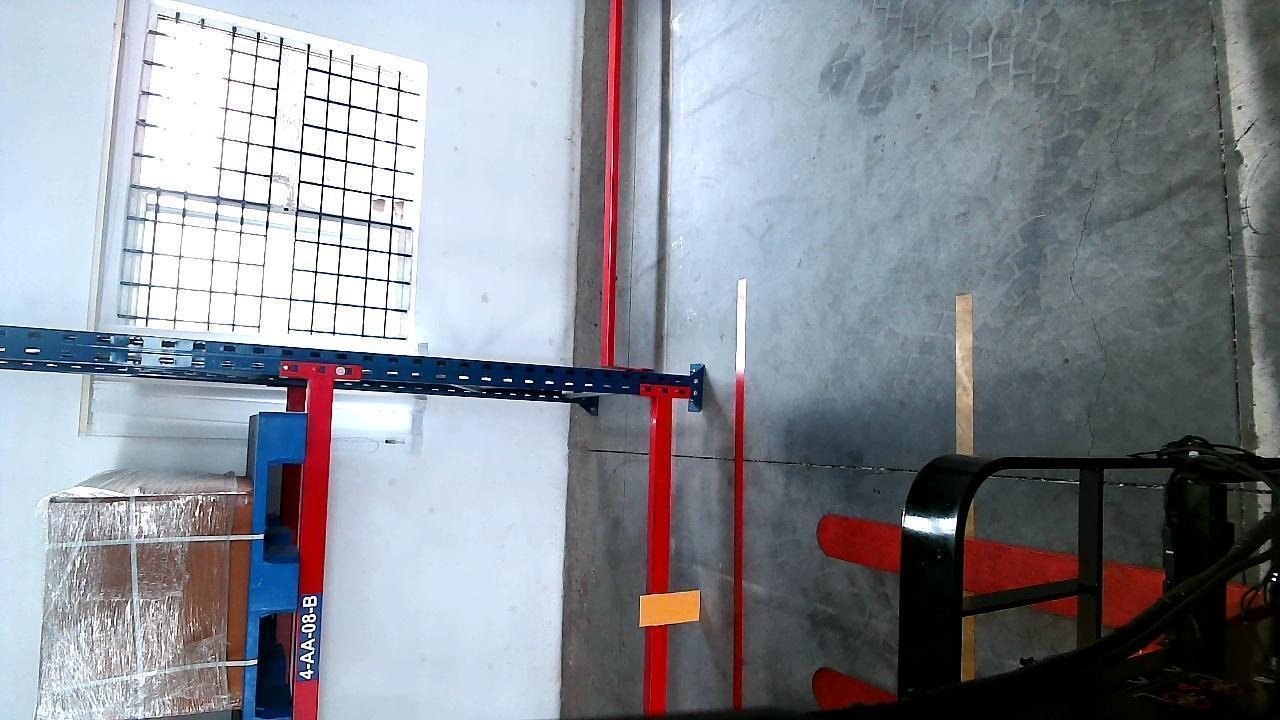red_line: (728, 308, 749, 711)
yellow_line: (954, 292, 973, 453)
